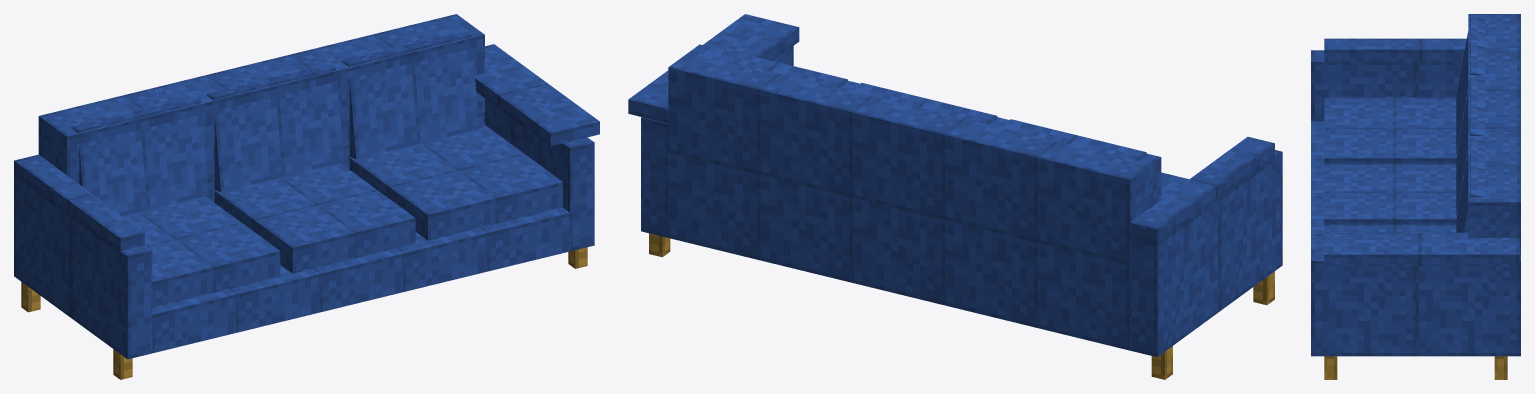
File: loungeCouchWideMansion_2.glb
The picture shows the model from 3 angles, left to right: view 1: azimuth 30°, elevation 25°; view 2: azimuth 150°, elevation 25°; view 3: azimuth 270°, elevation 25°; orthographic projection. The views are drawn at different scales.
Visible parts, largest first — view 1: loungeCouchWideMansion_2; view 2: loungeCouchWideMansion_2; view 3: loungeCouchWideMansion_2.
Boxes of the visible parts, x1,y1,x2,y2 form: loungeCouchWideMansion_2: (14, 14, 599, 379); loungeCouchWideMansion_2: (628, 14, 1282, 379); loungeCouchWideMansion_2: (1311, 14, 1520, 379).
Size of the model in its own units: 2.44 by 0.886 by 1.
Materials: 1 (1 with a texture image).
